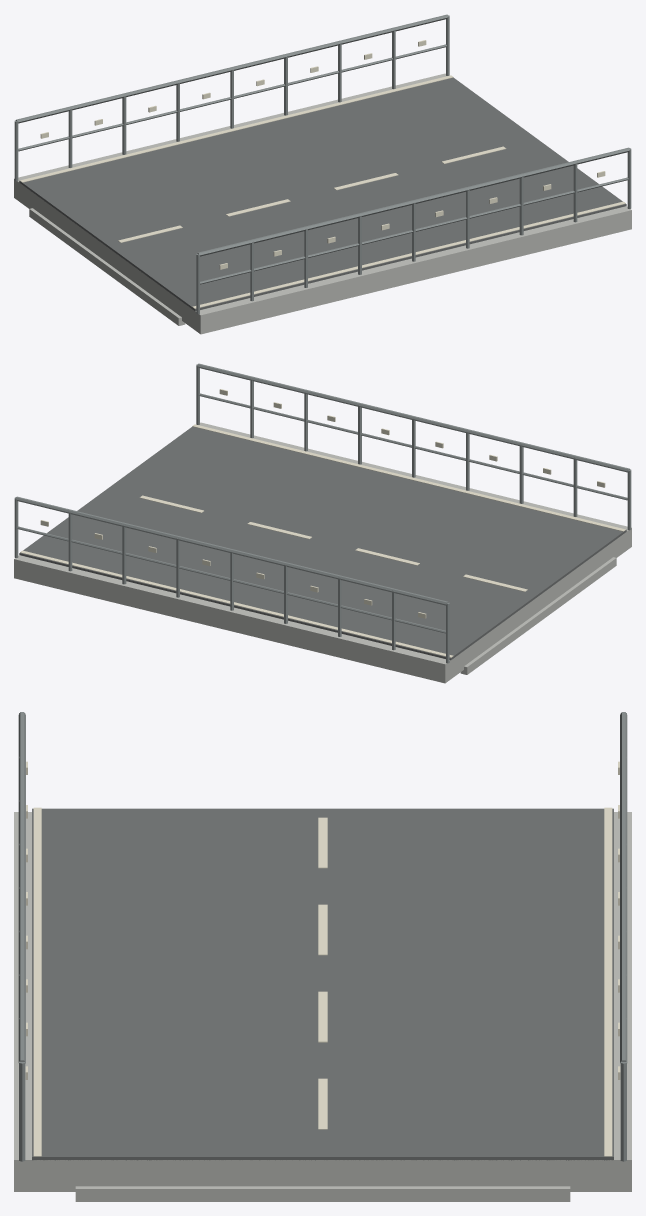
The model's file is Bridge_Car_Complete_8m.fbx.
The picture shows the model from 3 angles, top to bottom: view 1: azimuth 30°, elevation 25°; view 2: azimuth 150°, elevation 25°; view 3: azimuth 270°, elevation 25°; orthographic projection. The views are drawn at different scales.
Visible parts, largest first — view 1: Bridge_Car_Complete_8m; view 2: Bridge_Car_Complete_8m; view 3: Bridge_Car_Complete_8m.
Part boxes in pixels (bbox=[...]): Bridge_Car_Complete_8m: bbox=[14, 14, 631, 334]; Bridge_Car_Complete_8m: bbox=[14, 363, 631, 683]; Bridge_Car_Complete_8m: bbox=[14, 712, 631, 1201].
Bounding box in the file's own units: 812 × 152 × 600.
